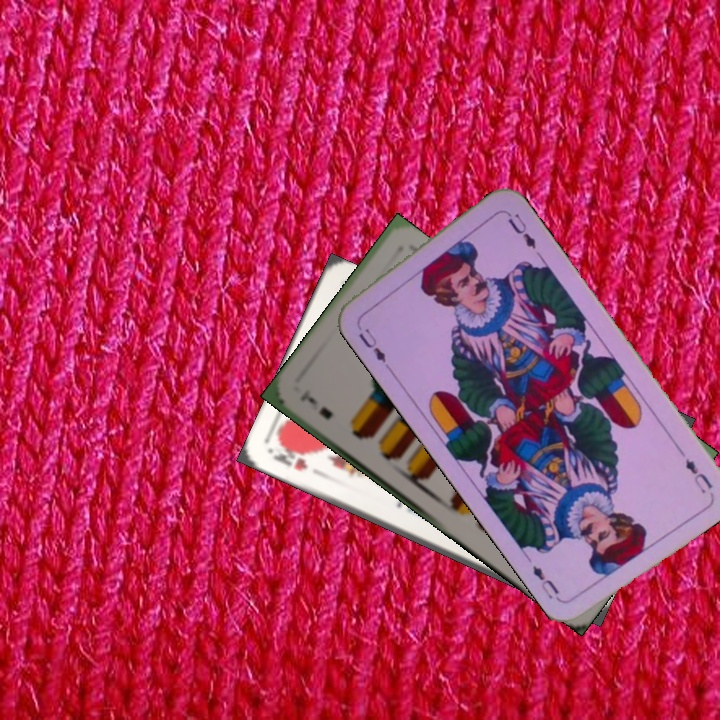E7: (296, 387, 336, 422)
EU: (674, 444, 716, 496), (354, 324, 392, 372)
HK: (267, 440, 310, 474)
